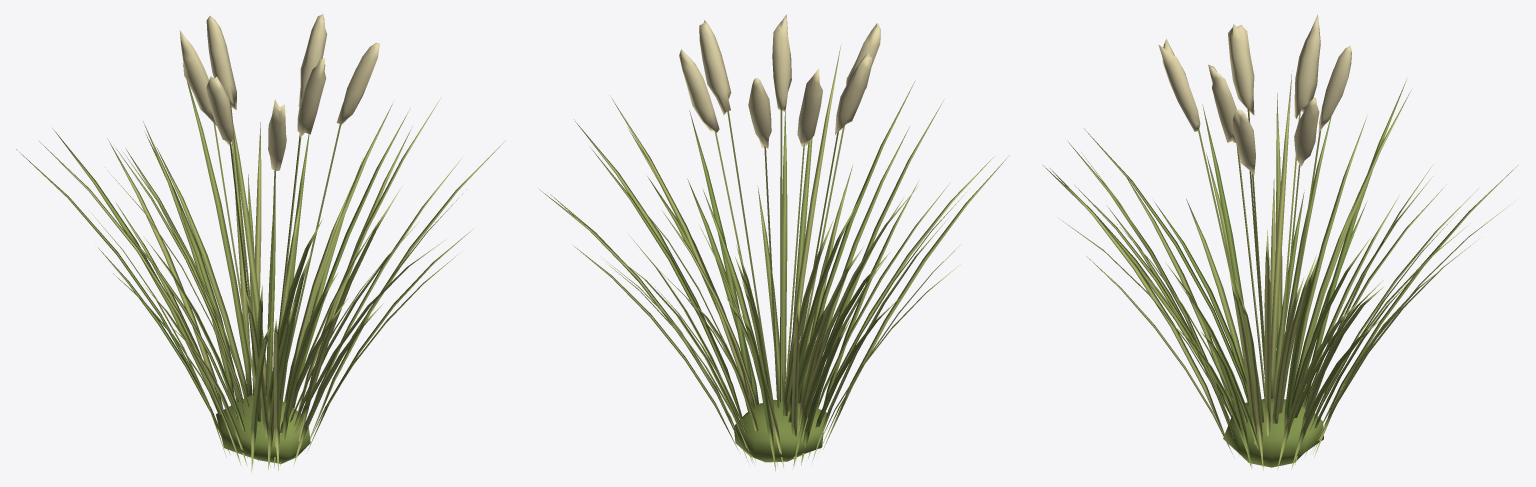
The model's file is grass.glb.
The picture shows the model from 3 angles, left to right: view 1: azimuth 30°, elevation 25°; view 2: azimuth 150°, elevation 25°; view 3: azimuth 270°, elevation 25°; orthographic projection. The views are drawn at different scales.
Parts seen in each view (by area): view 1: grass; view 2: grass; view 3: grass.
Part boxes in pixels (x1,y1,x2,y2): grass: (16,14,505,472); grass: (539,14,1009,471); grass: (1043,14,1517,470).
Bounding box in the file's own units: 1.22 × 1.21 × 1.28.
